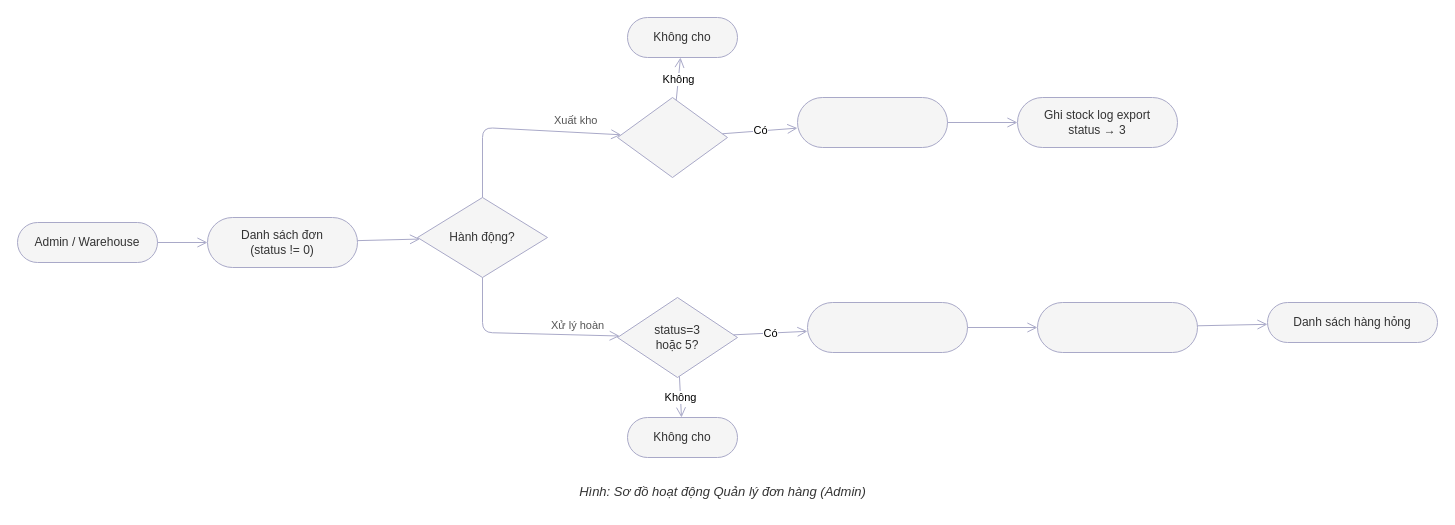
Some shapes in this 1455 by 525 pixel diagram are drawn without their labels. The shapes that lost their labels are listed below. From the top down, each one's box as (x1, y1, x2, y2) in pixels, then its label:
(616, 96, 728, 178): status = 1?
(796, 96, 948, 148): FIFO trừ tồn kho theo HSD
(806, 302, 968, 352): Chọn tình trạng nguyên vẹn / hỏng
(1036, 302, 1198, 352): status → 6 Không nhập kho lại
